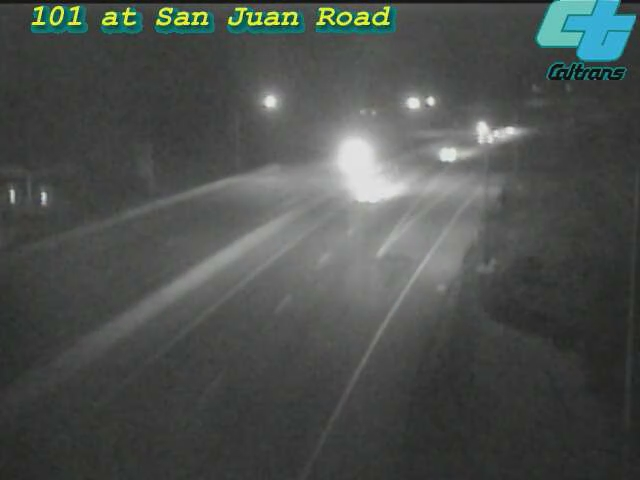vehicle: (314, 117, 394, 197), (342, 145, 422, 225), (456, 101, 506, 151), (488, 104, 538, 154), (461, 112, 511, 162), (425, 129, 475, 179)
